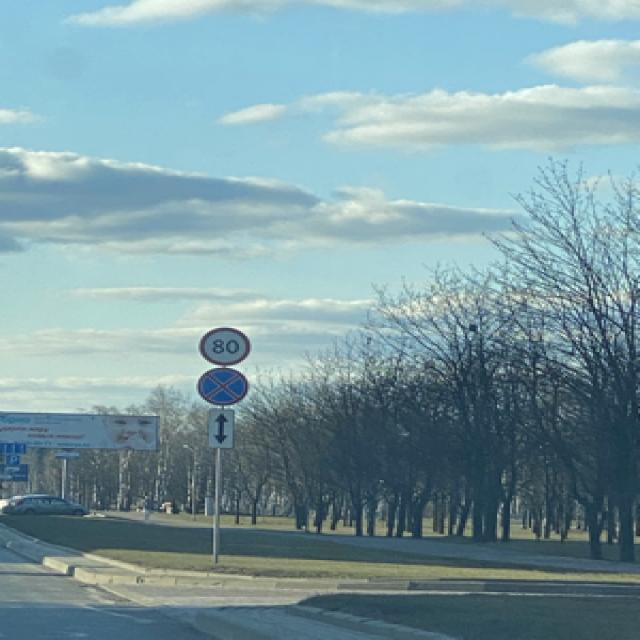speedlimit: (196, 325, 248, 363)
